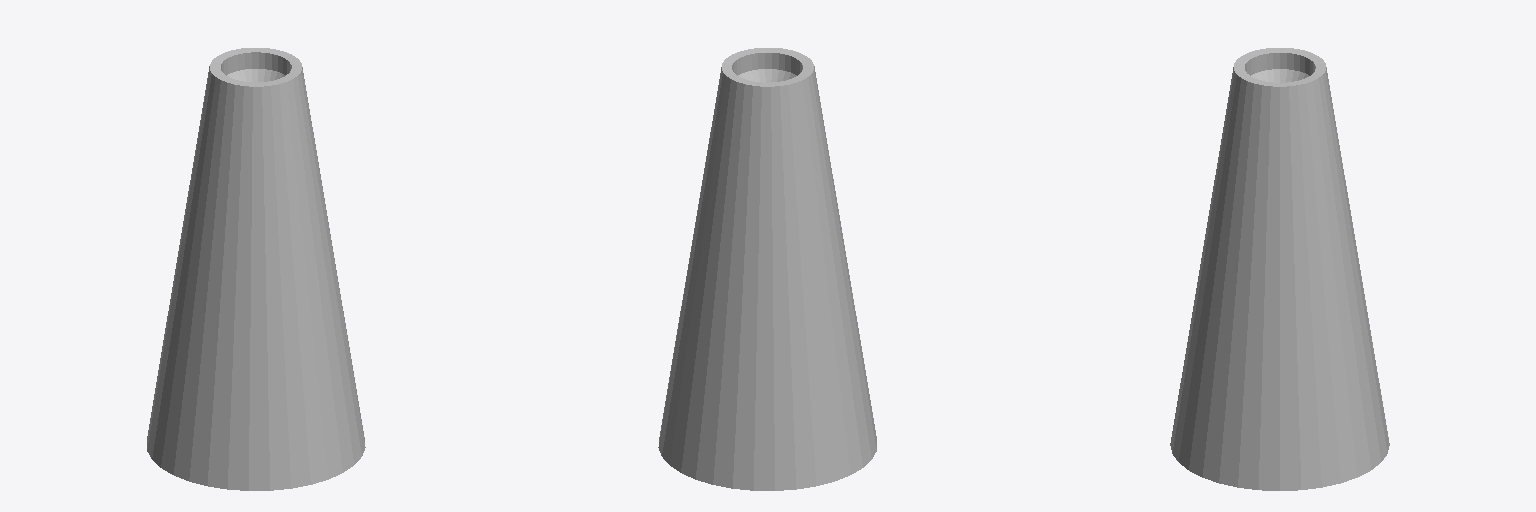
Rendered from furnace.obj.
3 views of the same model, side by side, from view 1: azimuth 30°, elevation 25°; view 2: azimuth 150°, elevation 25°; view 3: azimuth 270°, elevation 25° (orthographic).
Parts seen in each view (by area): view 1: Cone; view 2: Cone; view 3: Cone.
Boxes of the visible parts, x1,y1,x2,y2 form: Cone: [147, 48, 365, 490]; Cone: [658, 48, 876, 490]; Cone: [1170, 48, 1389, 490].
Bounding box in the file's own units: 2.36 × 4.48 × 2.36.